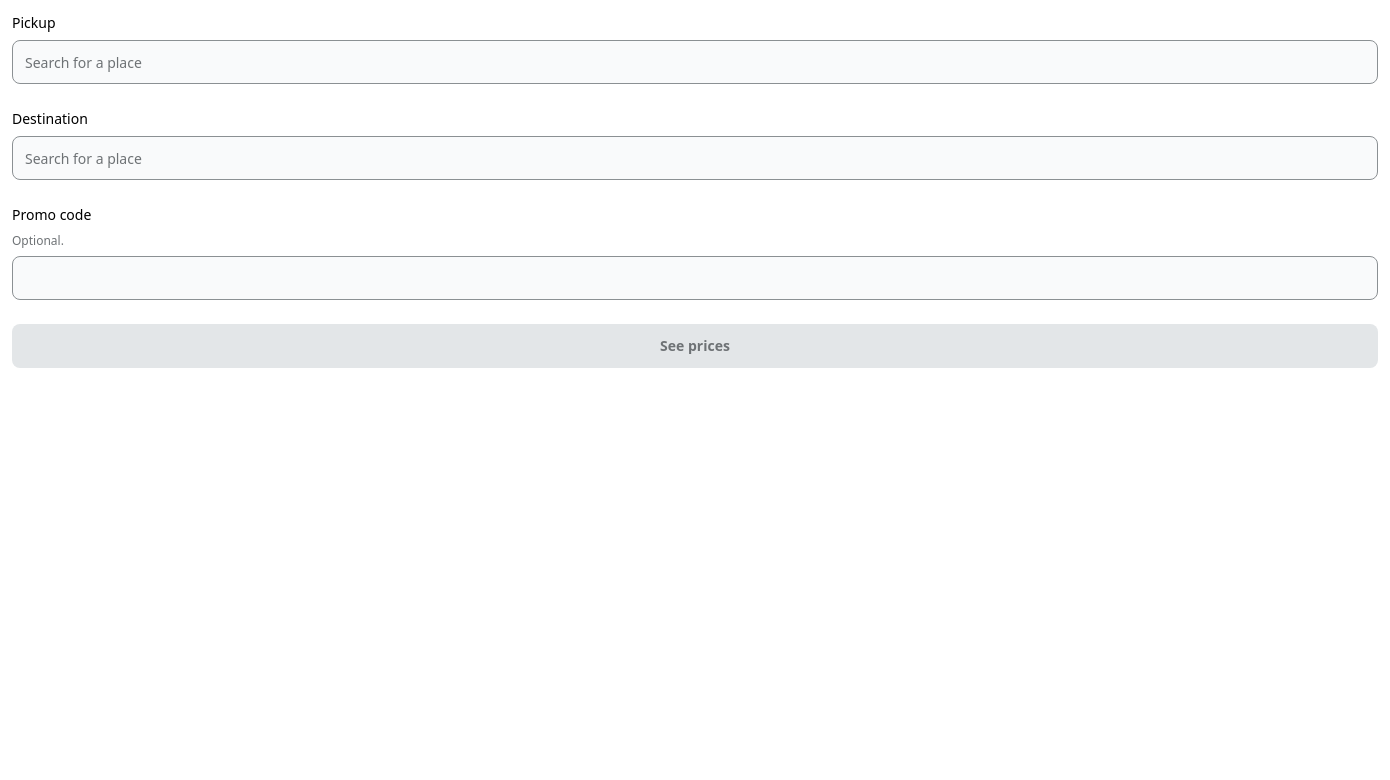
Test case: BookingForm › shows an option per vehicle type once quoted
The width and height of the screenshot is (1390, 780).
In the dropdown labelled "Pickup": (695,62) [12,40,1378,84], type "dhanmondi"
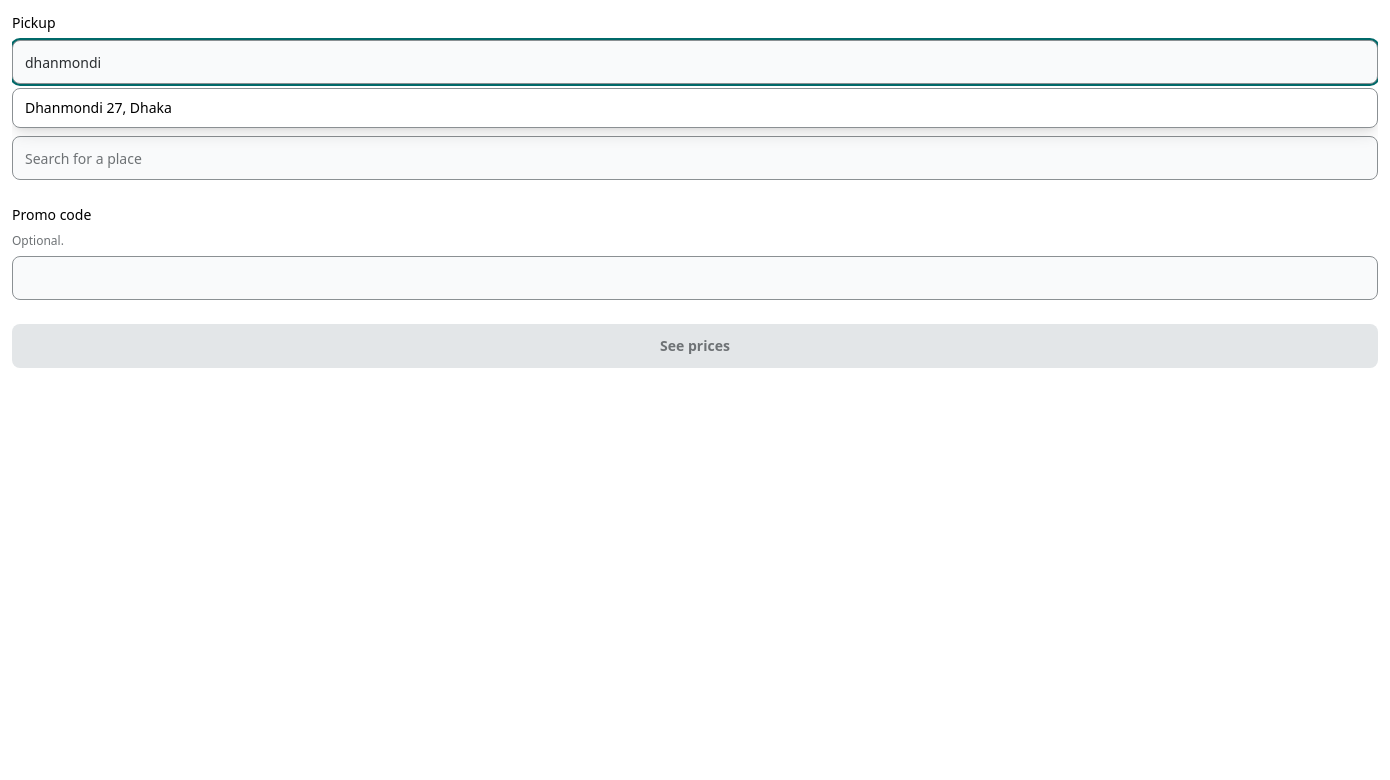
Click the option "Dhanmondi 27, Dhaka": (98,108) [13,89,1377,127]
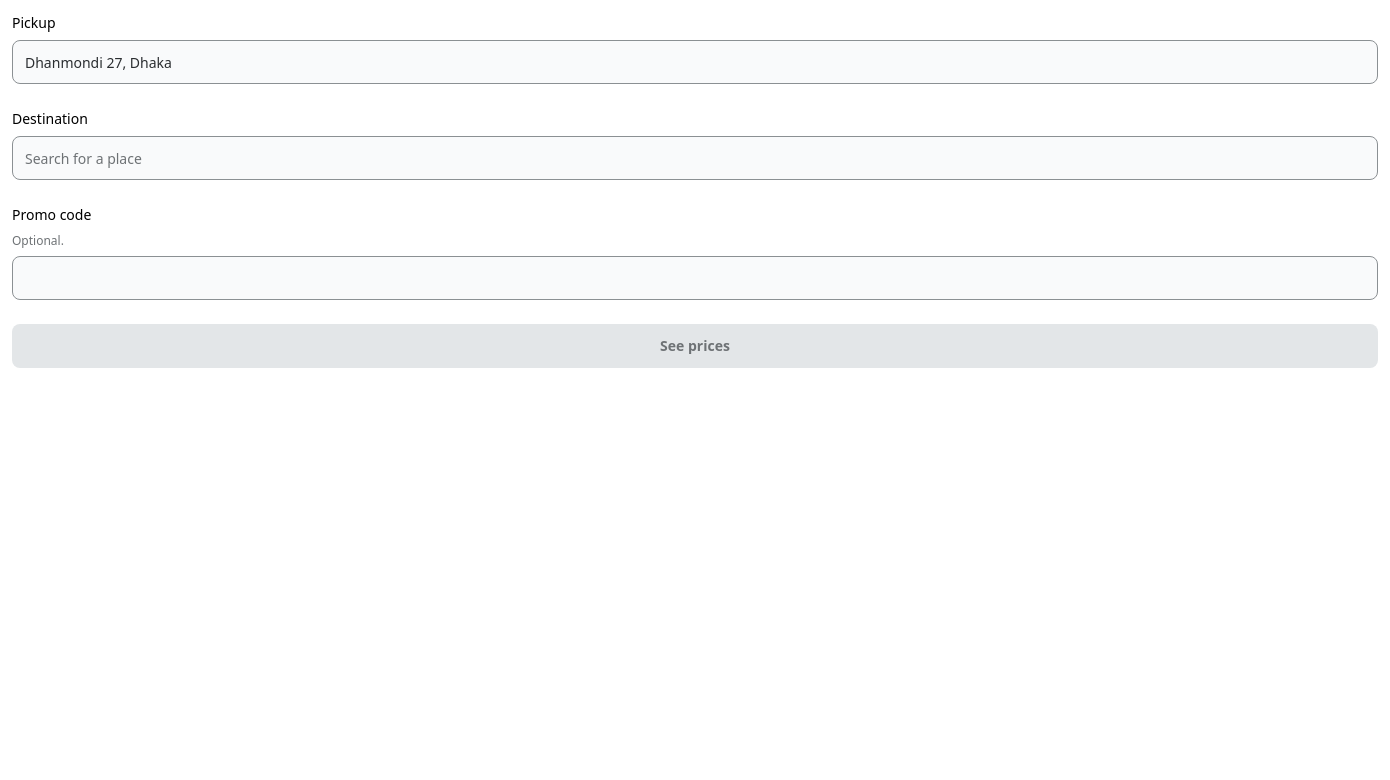
In the dropdown labelled "Destination": (695,158) [12,136,1378,180], type "banani"
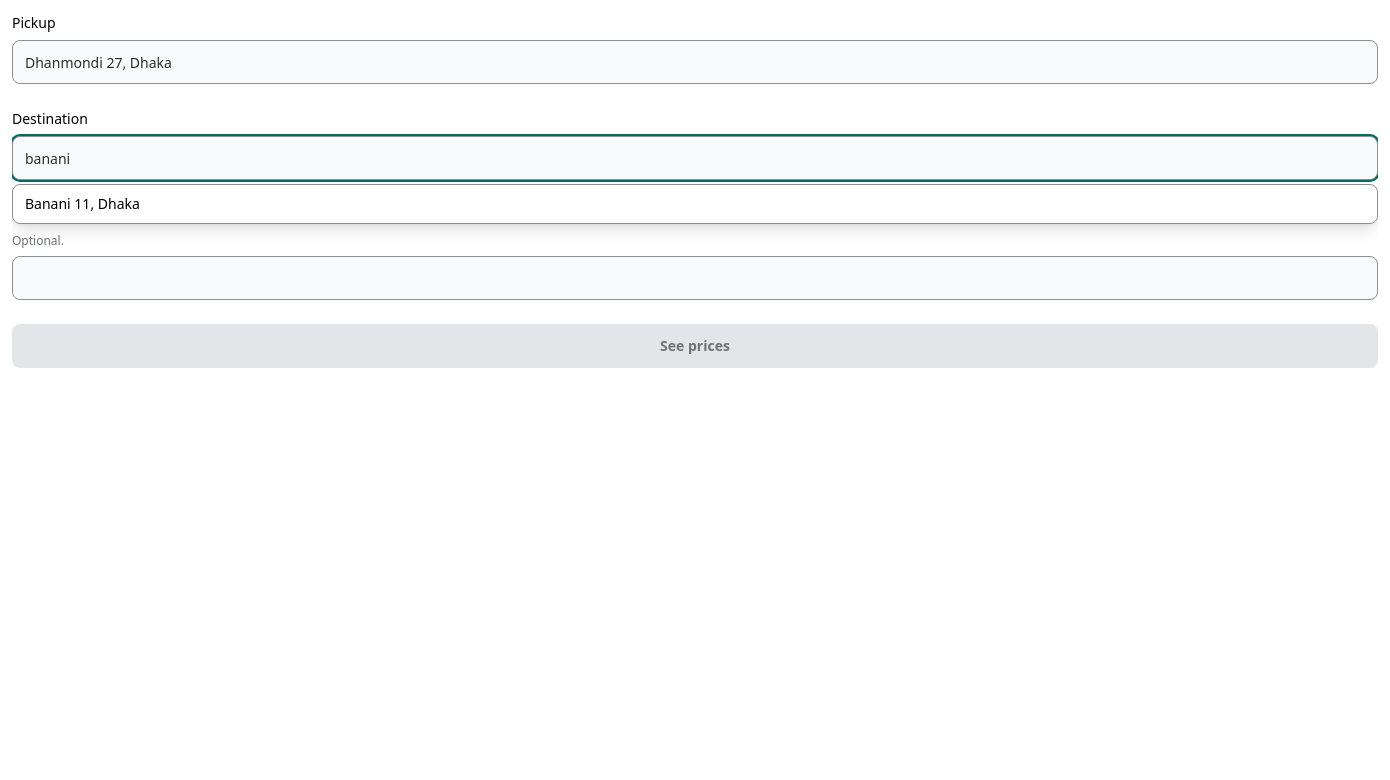
Click the option "Banani 11, Dhaka": (82,204) [13,185,1377,223]
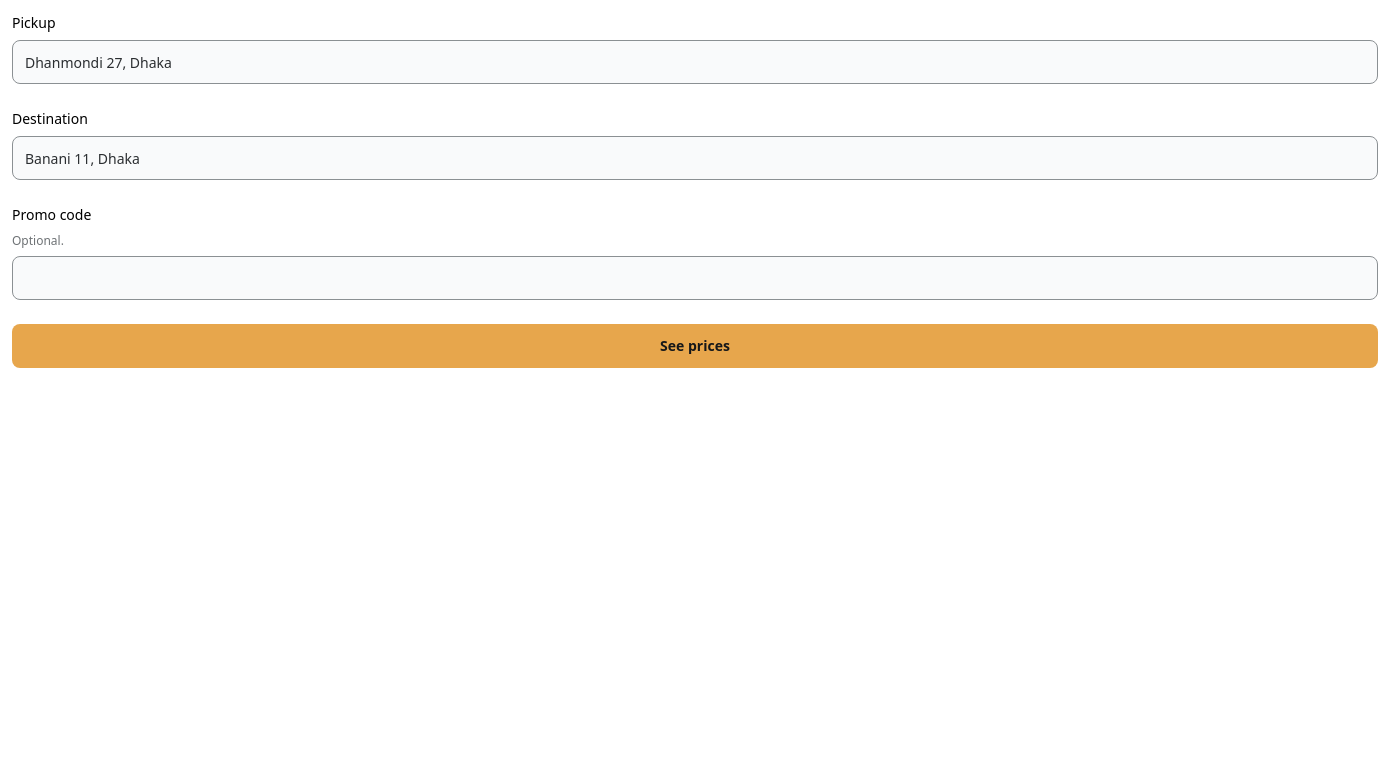
Click the button "See prices": (695,346) [12,324,1378,368]
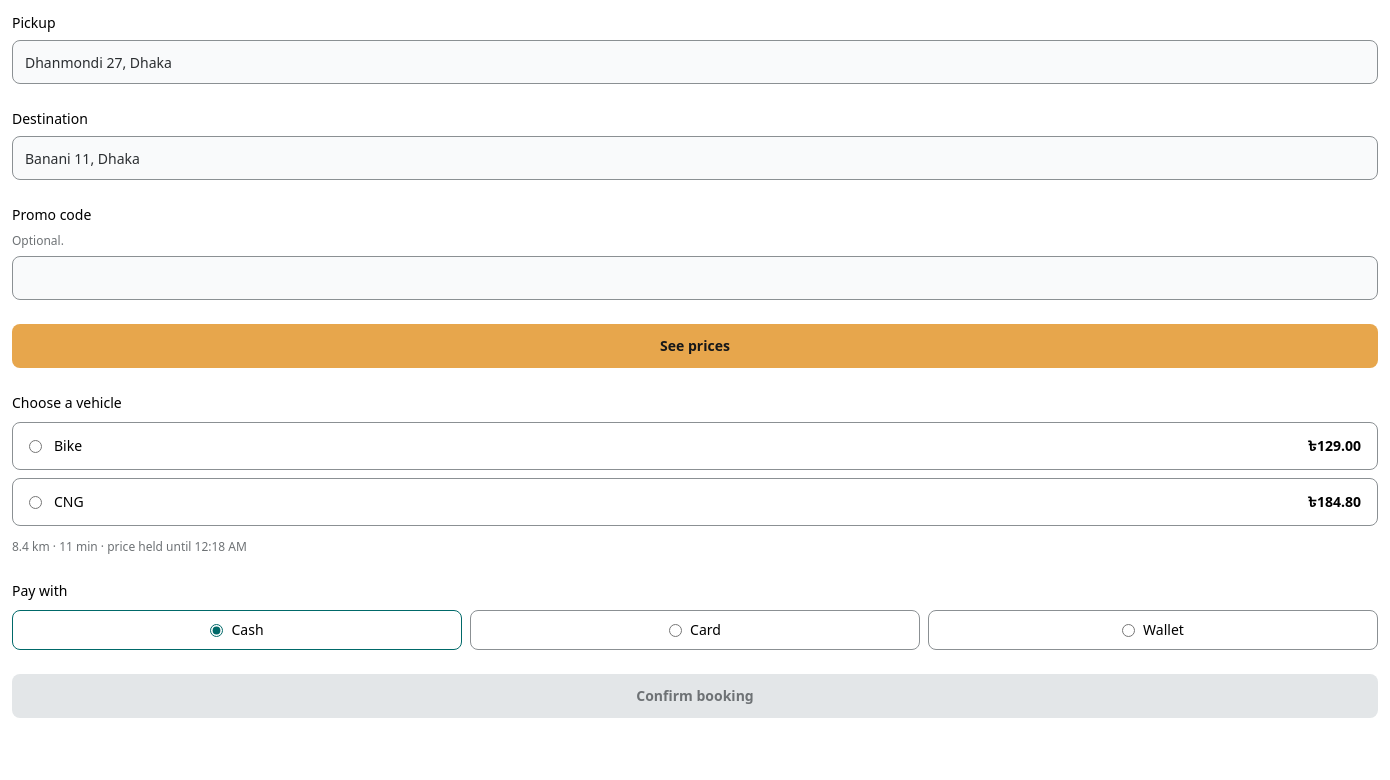
Result: the radio button labelled "Bike ৳129.00" is shown at [29,440,42,452]
Result: the radio button labelled "CNG ৳184.80" is shown at [29,496,42,508]
